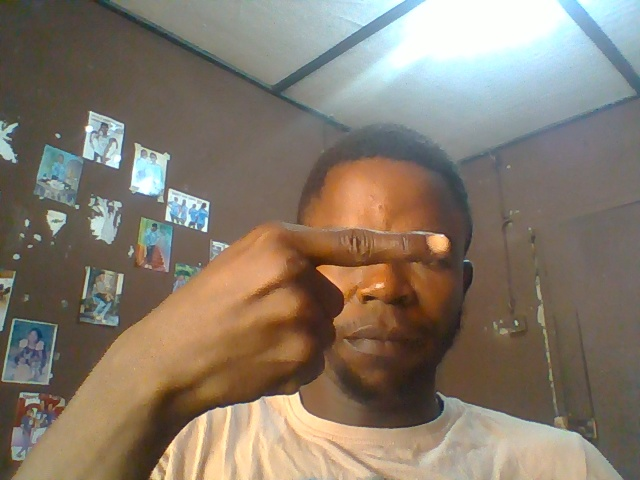Left: (135, 218, 455, 399)
